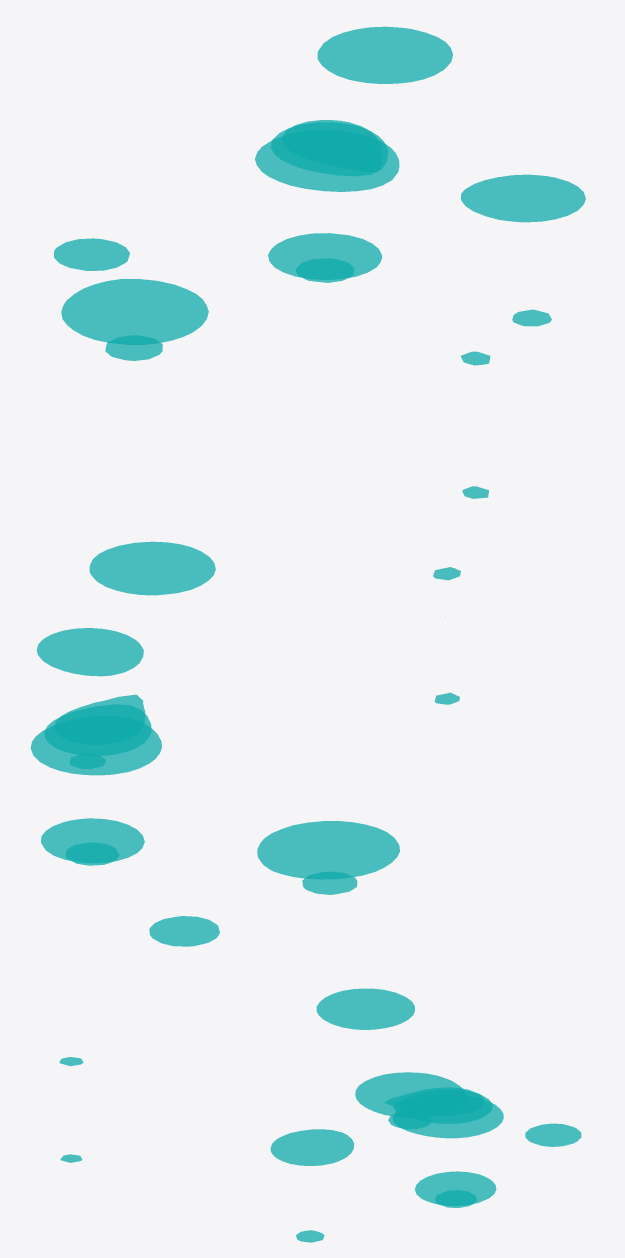
The model's file is WaterDrops.glb.
3 views of the same model, one above another, from view 1: azimuth 30°, elevation 25°; view 2: azimuth 150°, elevation 25°; view 3: azimuth 270°, elevation 25° (orthographic). The views are drawn at different scales.
Visible parts, largest first — view 1: mesh_mm36, mesh_mm144, mesh_mm113, mesh_mm107, mesh_mm15, mesh_mm100, mesh_mm120, mesh_mm7, mesh_mm4, mesh_mm2; view 2: mesh_mm36, mesh_mm144, mesh_mm113, mesh_mm100, mesh_mm107, mesh_mm15, mesh_mm120, mesh_mm7, mesh_mm4, mesh_mm2; view 3: mesh_mm144, mesh_mm113, mesh_mm36, mesh_mm100, mesh_mm107, mesh_mm15, mesh_mm120, mesh_mm7, mesh_mm2.
Part boxes in pixels (x1,y1,x2,y2): mesh_mm36: (61, 279, 208, 344); mesh_mm144: (317, 26, 452, 83); mesh_mm113: (271, 123, 388, 176); mesh_mm107: (461, 174, 585, 222); mesh_mm15: (268, 233, 381, 279); mesh_mm100: (255, 136, 399, 191); mesh_mm120: (281, 120, 381, 172); mesh_mm7: (54, 238, 129, 270); mesh_mm4: (105, 336, 162, 360); mesh_mm2: (296, 259, 353, 282); mesh_mm36: (257, 821, 399, 879); mesh_mm144: (89, 541, 215, 595); mesh_mm113: (44, 705, 151, 755); mesh_mm100: (30, 724, 161, 775); mesh_mm107: (36, 628, 143, 676); mesh_mm15: (41, 818, 144, 863); mesh_mm120: (54, 694, 145, 744); mesh_mm7: (149, 916, 219, 946); mesh_mm4: (302, 872, 357, 894); mesh_mm2: (66, 843, 118, 865); mesh_mm144: (316, 988, 414, 1029); mesh_mm113: (393, 1090, 492, 1123); mesh_mm36: (355, 1072, 462, 1117); mesh_mm100: (392, 1100, 503, 1138); mesh_mm107: (270, 1129, 354, 1165); mesh_mm15: (414, 1171, 496, 1205); mesh_mm120: (384, 1087, 484, 1115); mesh_mm7: (525, 1123, 581, 1146); mesh_mm2: (435, 1190, 476, 1208).
Bounding box in the file's own units: 25.5 × 12.08 × 31.18.
